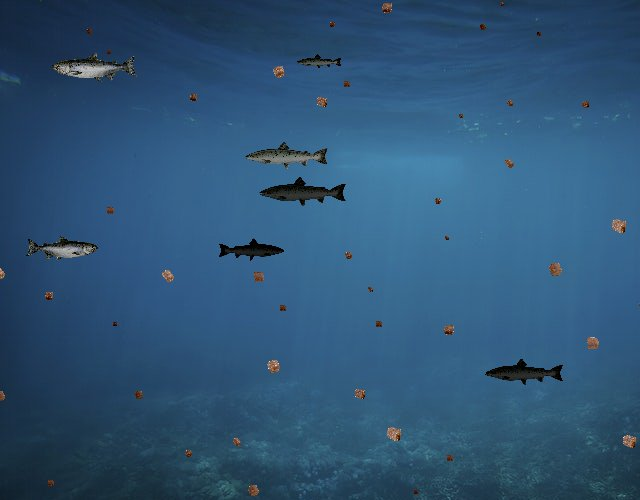Fish: (258, 175, 348, 208), (244, 140, 330, 171), (52, 52, 138, 83), (484, 357, 565, 387), (26, 236, 98, 262), (218, 237, 286, 262), (297, 53, 344, 70)
Pellet: (310, 91, 333, 114), (499, 153, 519, 173), (185, 89, 202, 106), (372, 317, 386, 331), (83, 25, 96, 38), (456, 110, 466, 121)
